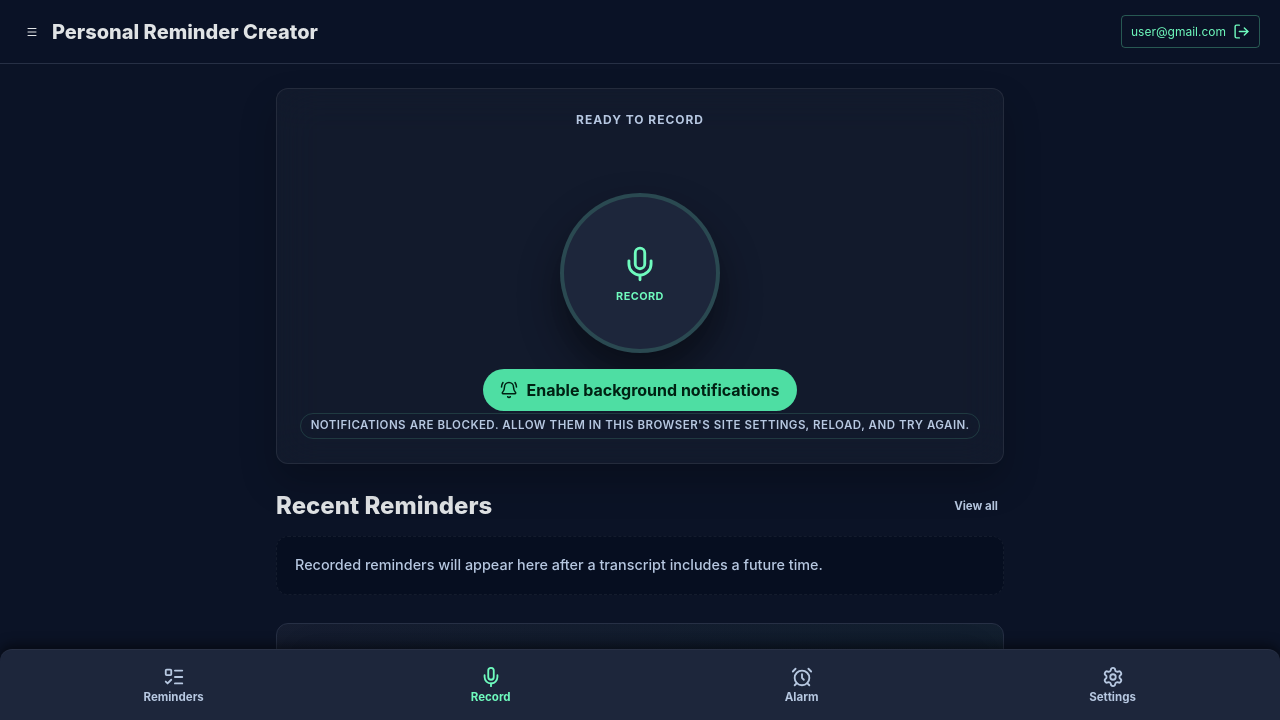
Test: App › shows unsupported browser feedback when recording APIs are missing
Click the button with aria-label "record audio": [640, 273] box [560,193,720,353]
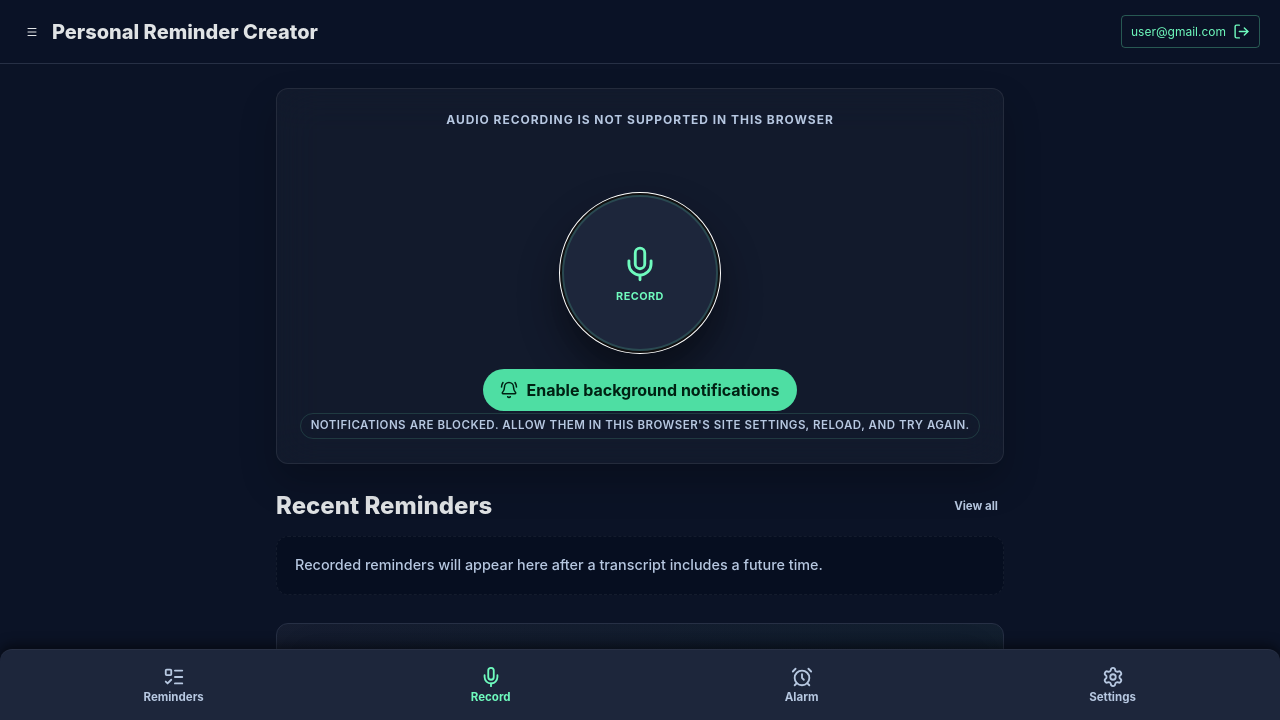
Expected: the text "Audio recording is not supported in this browser" is shown, [446,113,834,133]
